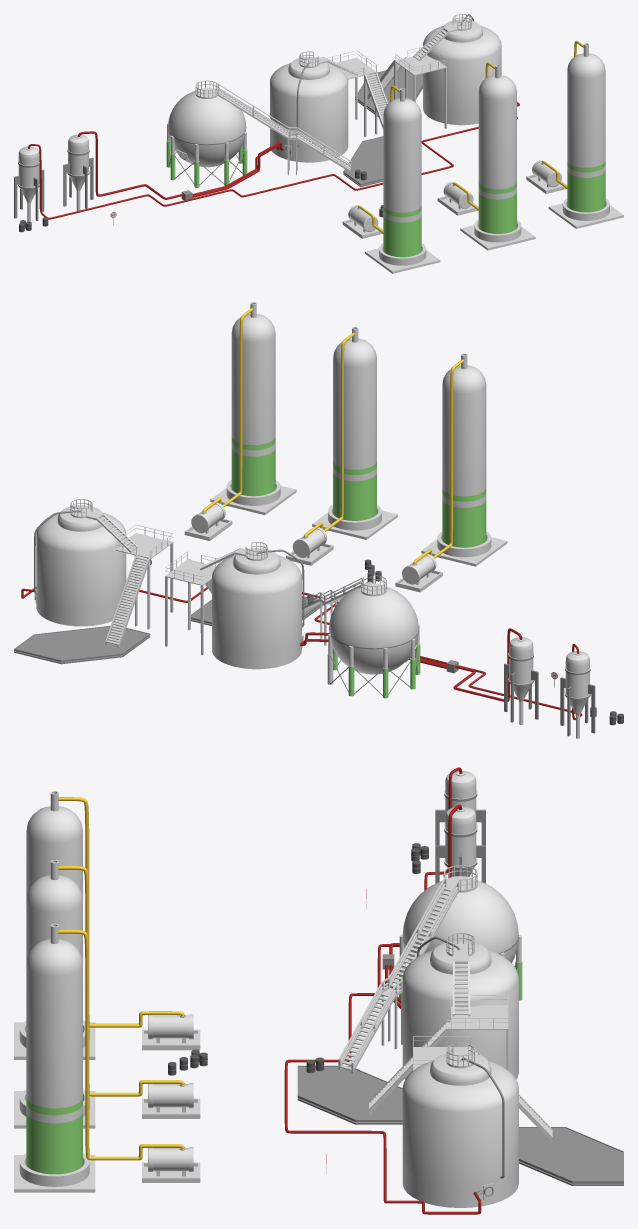
File: Chem Plant.fbx
The picture shows the model from 3 angles, top to bottom: view 1: azimuth 30°, elevation 25°; view 2: azimuth 150°, elevation 25°; view 3: azimuth 270°, elevation 25°; orthographic projection. The views are drawn at different scales.
Visible parts, largest first — view 1: Cube.013, Cube.012, Cube.014, Cylinder.002, Cylinder.004, Sphere, Cylinder.006, NurbsPath.003, Plane.004, Cylinder, NurbsPath.002, Plane.006 (+9 smaller); view 2: Cylinder.002, Cylinder.004, Cube.014, Cube.012, Cube.013, Sphere, Cylinder.006, Plane.006, Cylinder, Cube.004, Cube.008, Cylinder.011 (+9 smaller); view 3: Cylinder.004, Cube.014, Cylinder.002, Sphere, Plane.006, Cube.012, Plane.004, Cube.013, Cylinder.006, NurbsPath.003, Plane.003, Cylinder.009 (+13 smaller).
Part boxes in pixels (x1,y1,x2,y2): Cube.013: (460,64,535,250); Cube.012: (365,88,440,273); Cube.014: (548,43,623,228); Cylinder.002: (270,57,348,162); Cylinder.004: (423,19,501,125); Sphere: (168,90,246,167); Cylinder.006: (14,134,93,221); NurbsPath.003: (28,102,519,219); Plane.004: (343,136,383,187); Cylinder: (166,123,247,187); NurbsPath.002: (77,131,283,199); Plane.006: (355,67,422,116); Cylinder.002: (212,548,303,669); Cylinder.004: (34,505,126,626); Cube.014: (210,302,296,514); Cube.012: (421,353,507,566); Cube.013: (312,327,397,539); Sphere: (329,587,418,674); Cylinder.006: (504,637,595,738); Plane.006: (14,625,150,664); Cylinder: (327,624,420,698); Cube.004: (165,551,219,655); Cube.008: (114,524,173,612); Cylinder.011: (184,502,232,540); Cylinder.004: (402,1052,518,1207); Cube.014: (14,923,95,1192); Cylinder.002: (402,941,518,1079); Sphere: (402,880,518,962); Plane.006: (519,1127,623,1185); Cube.012: (14,791,95,1059); Plane.004: (297,1065,402,1124); Cube.013: (14,860,95,1128); Cylinder.006: (435,770,485,883); NurbsPath.003: (284,767,481,1214); Plane.003: (338,875,461,1069); Cylinder.009: (142,1014,200,1050).
Bounding box in the file's own units: 2196 × 734 × 1556.
